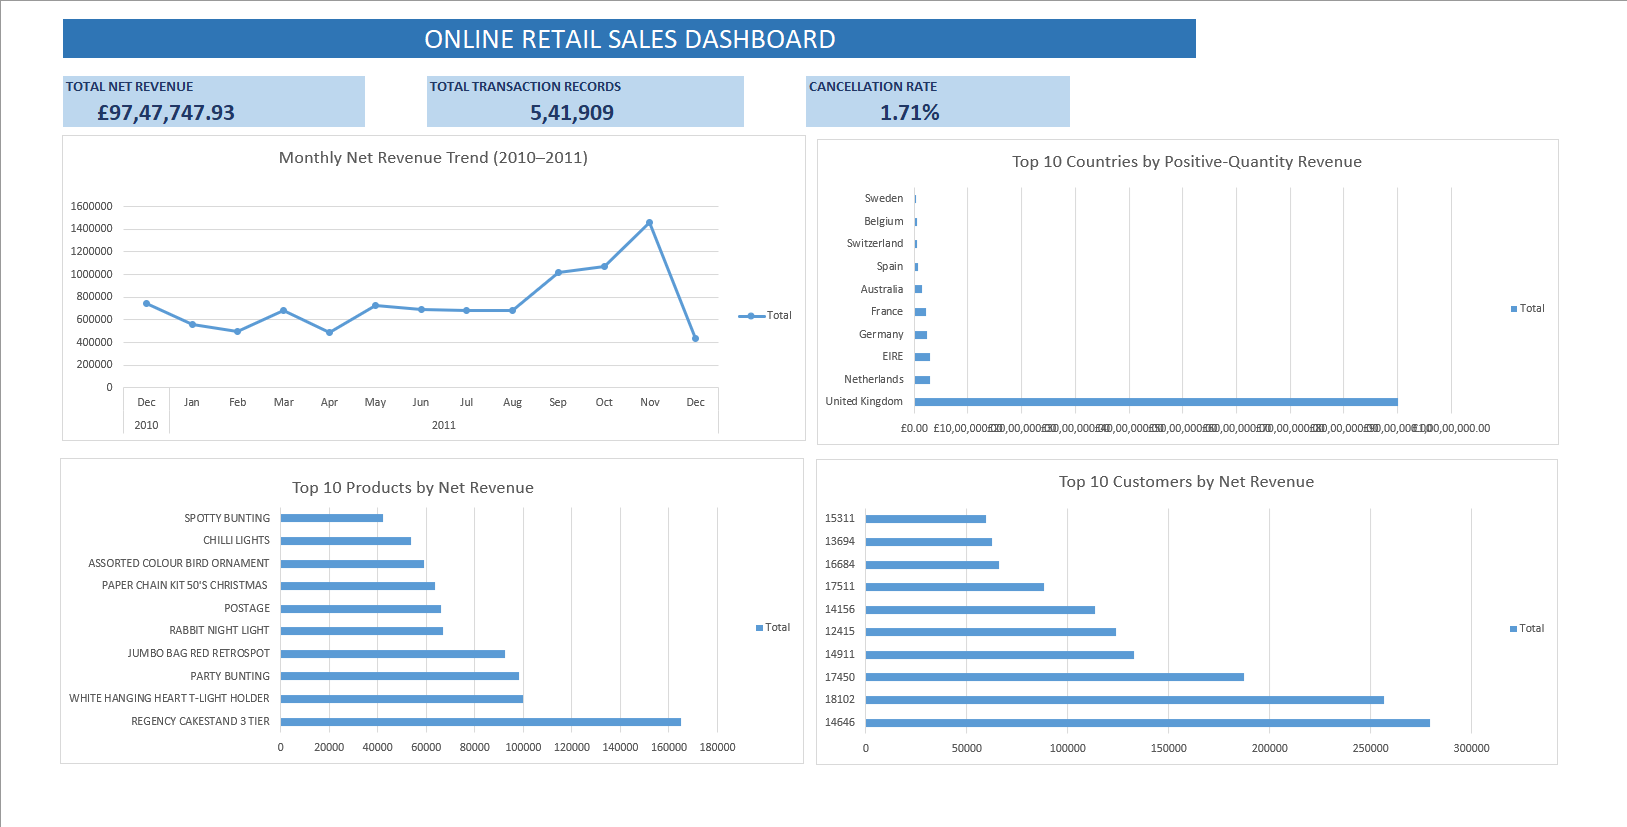

This screenshot's page, from the dashboard's own definition file:
{"tool":"powerbi","page":{"name":"Page 1","canvas":[1900,2800],"ordinal":0},"visuals":[{"type":"cardVisual","fields":{"Data":["online_retail.total net revenue"]},"box":[0,304,440.5,415.8],"z":0},{"type":"clusteredColumnChart","fields":{"Y":["online_retail.total customers"]},"box":[440,304,440.5,415.8],"z":1000},{"type":"clusteredColumnChart","fields":{"Y":["online_retail.total orders"]},"box":[880,304,440.5,415.8],"z":2000},{"type":"clusteredColumnChart","fields":{"Y":["online_retail.total products"]},"box":[0,720,440.5,415.8],"z":3000},{"type":"clusteredColumnChart","fields":{"Y":["online_retail.total records"]},"box":[440,720,439.7,415.8],"z":4000},{"type":"lineChart","fields":{"Category":["online_retail.monthyear"],"Y":["online_retail.positive sales"]},"box":[880,720,440,416],"z":5000},{"type":"clusteredBarChart","fields":{"Category":["online_retail.Country"],"Y":["CountNonNull(online_retail.Country)"]},"box":[1320,304,474,416],"z":6000},{"type":"clusteredBarChart","fields":{"Category":["online_retail.Description"],"Y":["online_retail.positive sales"]},"box":[1320,720,474,416],"z":7000},{"type":"clusteredBarChart","fields":{"Category":["online_retail.CustomerID"],"Y":["online_retail.positive sales"]},"box":[880,1136,440,442.7],"z":8000},{"type":"slicer","fields":{"Values":["online_retail.Country"]},"box":[1354,228,440,76],"z":9000},{"type":"slicer","fields":{"Values":["online_retail.monthyear"]},"box":[0,204,324,62],"z":10000},{"type":"textbox","box":[0,416,440,150],"z":11000},{"type":"textbox","box":[470,130,1006,98],"z":12000}]}

Visuals, with their boxes on the page's 1900x2800 design canvas (x1, y1, x2, y2). These are canvas units, not pixel positions in the 1627x827 screenshot, which may show the page scaled, cropped or inside an application window:
cardVisual - online_retail.total net revenue: {"x1": 0, "y1": 304, "x2": 440, "y2": 720}
clusteredColumnChart - online_retail.total customers: {"x1": 440, "y1": 304, "x2": 880, "y2": 720}
clusteredColumnChart - online_retail.total orders: {"x1": 880, "y1": 304, "x2": 1320, "y2": 720}
clusteredColumnChart - online_retail.total products: {"x1": 0, "y1": 720, "x2": 440, "y2": 1136}
clusteredColumnChart - online_retail.total records: {"x1": 440, "y1": 720, "x2": 880, "y2": 1136}
lineChart - online_retail.monthyear x online_retail.positive sales: {"x1": 880, "y1": 720, "x2": 1320, "y2": 1136}
clusteredBarChart - online_retail.Country x CountNonNull(online_retail.Country): {"x1": 1320, "y1": 304, "x2": 1794, "y2": 720}
clusteredBarChart - online_retail.Description x online_retail.positive sales: {"x1": 1320, "y1": 720, "x2": 1794, "y2": 1136}
clusteredBarChart - online_retail.CustomerID x online_retail.positive sales: {"x1": 880, "y1": 1136, "x2": 1320, "y2": 1579}
slicer - online_retail.Country: {"x1": 1354, "y1": 228, "x2": 1794, "y2": 304}
slicer - online_retail.monthyear: {"x1": 0, "y1": 204, "x2": 324, "y2": 266}
textbox: {"x1": 0, "y1": 416, "x2": 440, "y2": 566}
textbox: {"x1": 470, "y1": 130, "x2": 1476, "y2": 228}
